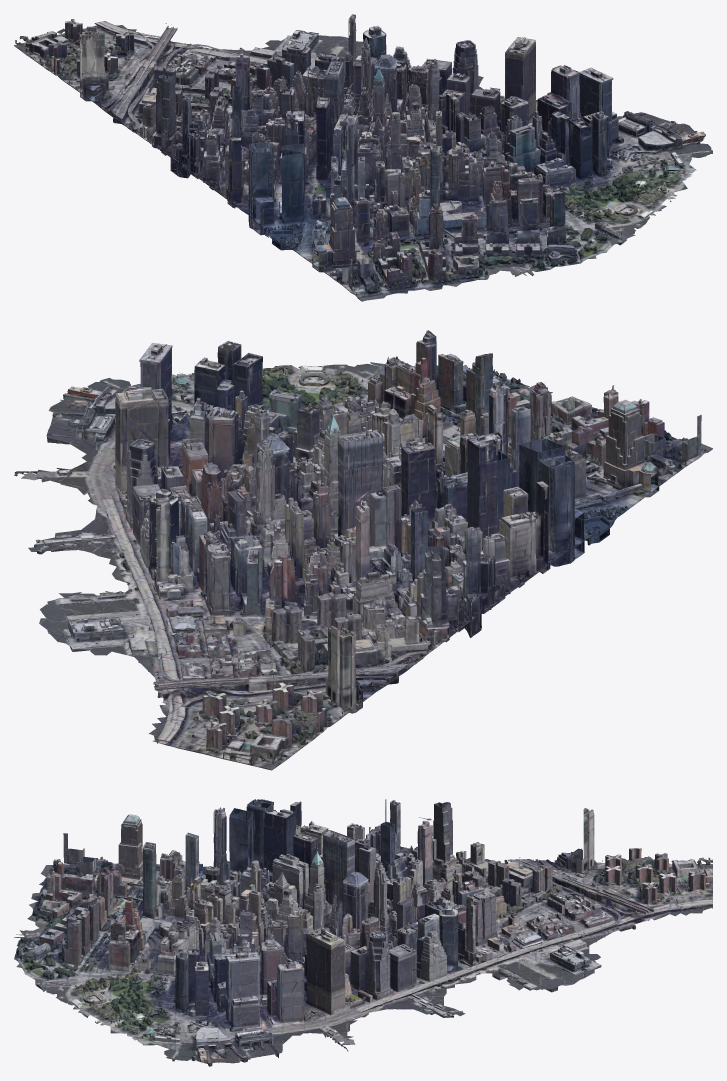
The model's file is manhattan.glb.
3 views of the same model, one above another, from view 1: azimuth 30°, elevation 25°; view 2: azimuth 150°, elevation 25°; view 3: azimuth 270°, elevation 25° (orthographic). The views are drawn at different scales.
Visible parts, largest first — view 1: Object_3; view 2: Object_3; view 3: Object_3.
Boxes of the visible parts, <box> form: Object_3: <box>14,14,712,301</box>; Object_3: <box>14,330,712,770</box>; Object_3: <box>14,799,712,1066</box>.
Bounding box in the file's own units: 8.07 × 2.23 × 11.93.
1 material, 1 textured.
